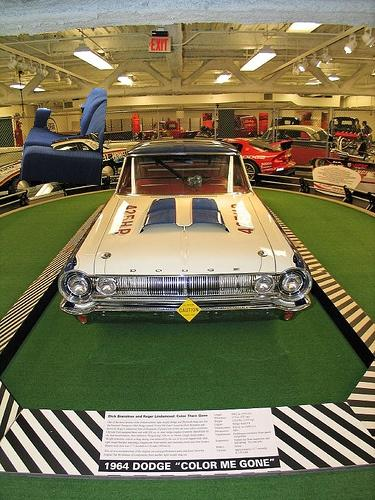tampered: (20, 89, 107, 185)
